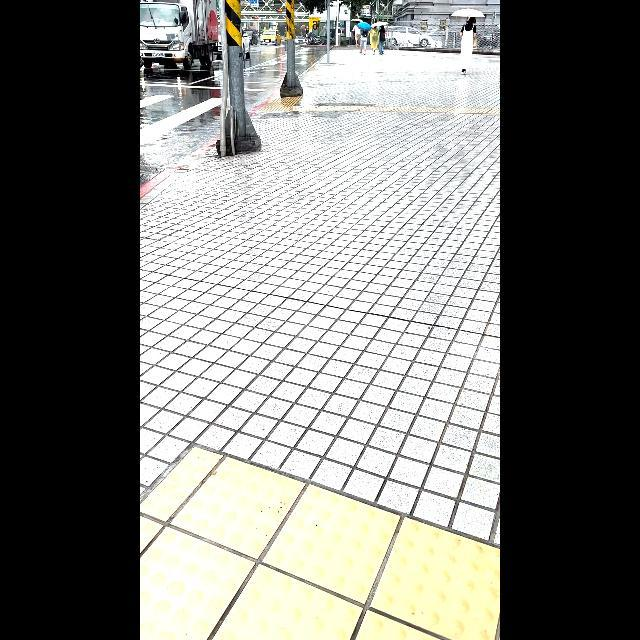sidewalk: (141, 90, 225, 147)
